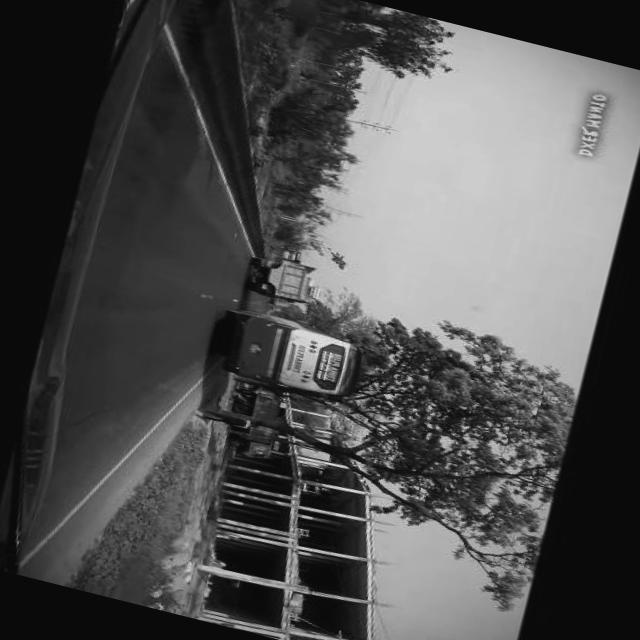bus: (216, 306, 368, 406)
truck: (224, 383, 288, 465), (245, 254, 318, 308)
